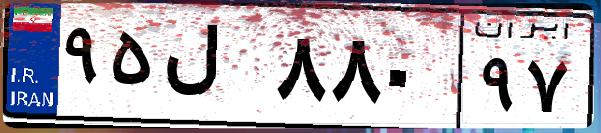0: (385, 28, 445, 110)
5: (110, 28, 158, 98)
7: (525, 38, 570, 115)
8: (270, 28, 330, 110), (330, 28, 385, 110)
9: (57, 26, 110, 100), (475, 38, 525, 113)
ل: (158, 20, 270, 120)
